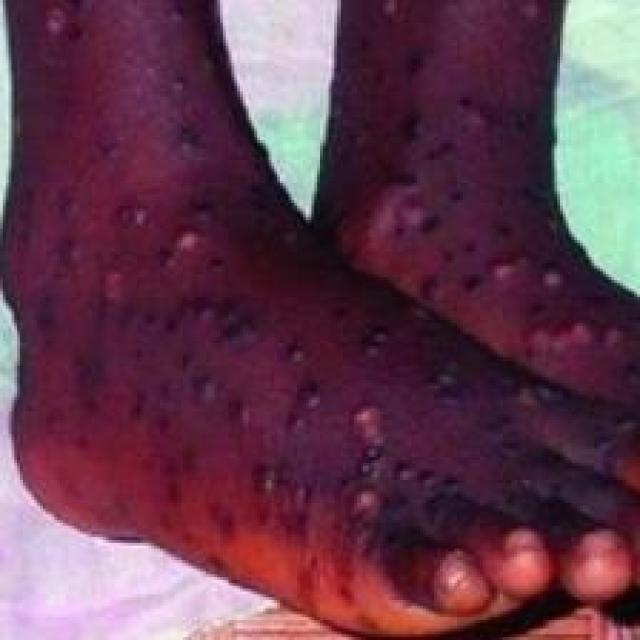monkeypox: (9, 8, 628, 624)
